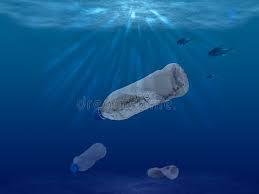Plastic: (88, 57, 205, 126), (64, 135, 112, 177), (138, 153, 185, 187)
